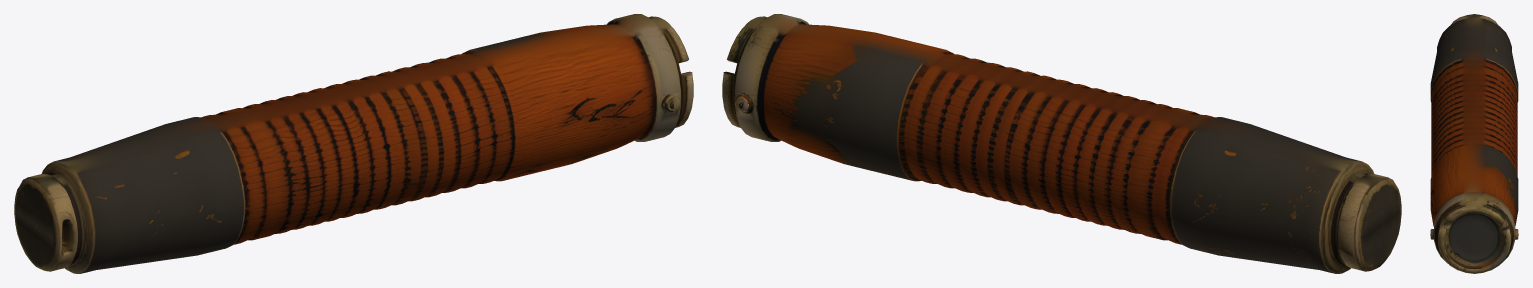
The model's file is shotgun2.glb.
3 views of the same model, side by side, from view 1: azimuth 30°, elevation 25°; view 2: azimuth 150°, elevation 25°; view 3: azimuth 270°, elevation 25° (orthographic). The views are drawn at different scales.
Parts seen in each view (by area): view 1: texture_pbr_v128; view 2: texture_pbr_v128; view 3: texture_pbr_v128.
Boxes of the visible parts, x1,y1,x2,y2 form: texture_pbr_v128: (14, 14, 693, 273); texture_pbr_v128: (722, 14, 1401, 273); texture_pbr_v128: (1430, 14, 1518, 273).
Size of the model in its own units: 1.19 by 0.2198 by 0.2217.
1 material, 1 textured.
